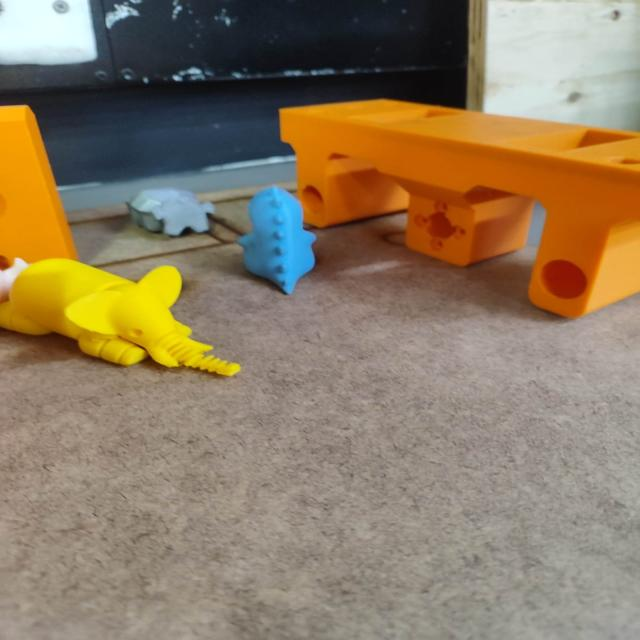DINO: (222, 171, 334, 298)
